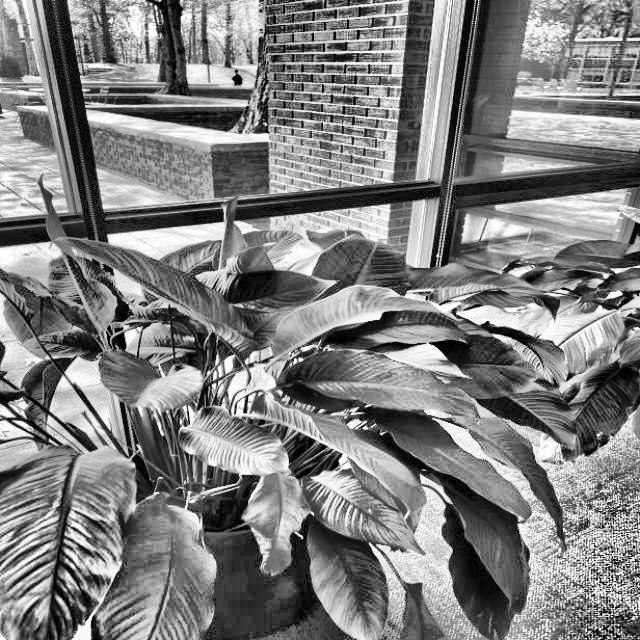plants: (26, 176, 529, 640), (488, 104, 640, 403)
